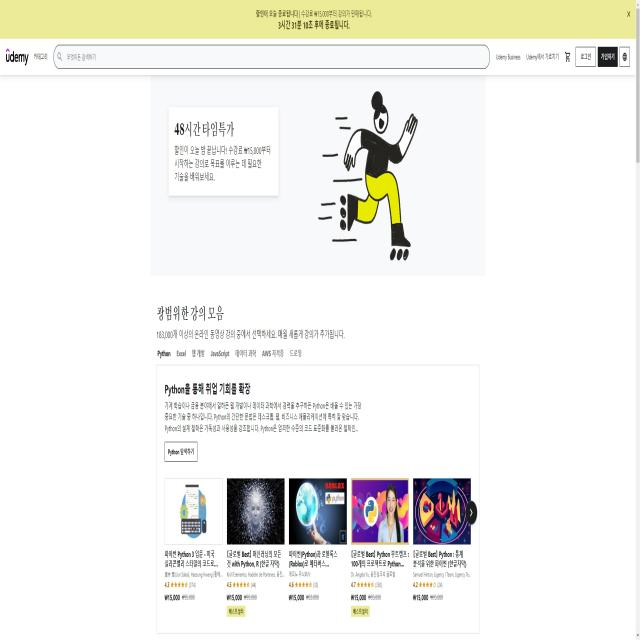menu-bar: (494, 48, 630, 70)
search: (50, 43, 491, 70)
tab-bar: (155, 344, 307, 364)
